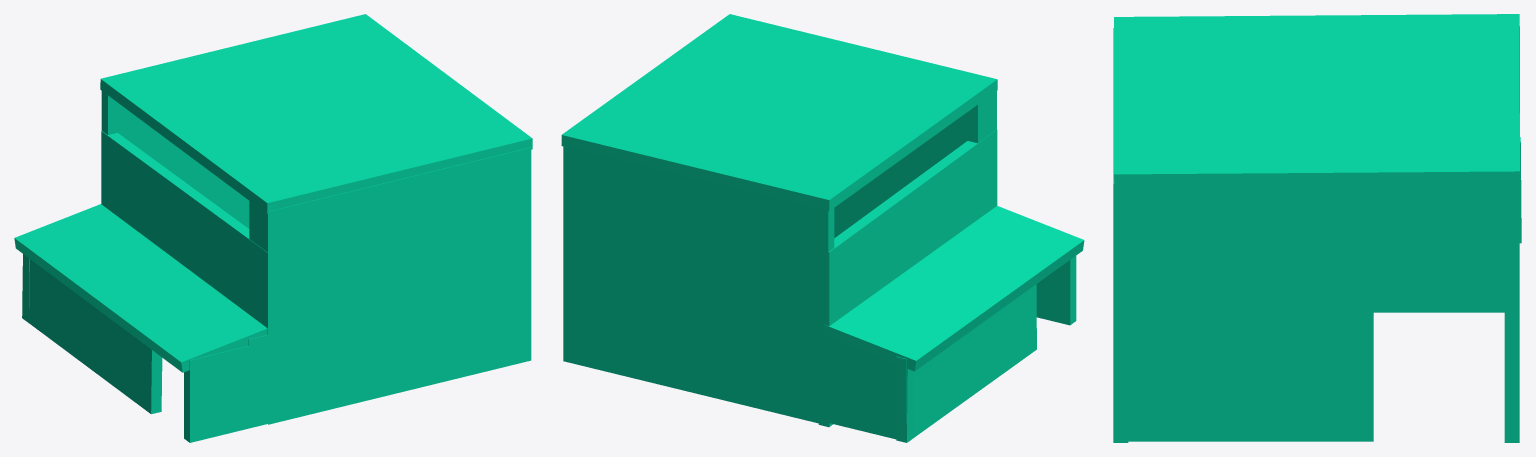
File: SM_PDA.fbx
3 renders of one model, left to right at view 1: azimuth 30°, elevation 25°; view 2: azimuth 150°, elevation 25°; view 3: azimuth 270°, elevation 25°, orthographic. The views are drawn at different scales.
Visible parts, largest first — view 1: SM_Mur_D_PDA, SM_toit_PDA, SM_toit_PDA1, SM_facade, SM_sass_PDA, SM_Mur_D_PDA1, SM_Mur_L_PDA, SM_haut_building; view 2: SM_Mur_L_PDA, SM_toit_PDA, SM_toit_PDA1, SM_facade, SM_sass_PDA, SM_Mur_D_PDA2, SM_Mur_D_PDA, SM_Mur_D_PDA1, SM_haut_building; view 3: SM_BAckPDA, SM_toit_PDA, SM_Mur_D_PDA, SM_Mur_L_PDA.
Boxes of the visible parts, x1=… form: SM_Mur_D_PDA: x1=268, y1=147, x2=531, y2=424; SM_toit_PDA: x1=100, y1=14, x2=532, y2=213; SM_toit_PDA1: x1=14, y1=204, x2=267, y2=372; SM_facade: x1=101, y1=131, x2=268, y2=334; SM_sass_PDA: x1=22, y1=254, x2=162, y2=414; SM_Mur_D_PDA1: x1=184, y1=335, x2=268, y2=442; SM_Mur_L_PDA: x1=101, y1=91, x2=249, y2=228; SM_haut_building: x1=249, y1=201, x2=278, y2=252; SM_Mur_L_PDA: x1=563, y1=146, x2=834, y2=425; SM_toit_PDA: x1=561, y1=14, x2=997, y2=211; SM_toit_PDA1: x1=823, y1=206, x2=1084, y2=371; SM_facade: x1=818, y1=129, x2=997, y2=427; SM_sass_PDA: x1=896, y1=284, x2=1036, y2=442; SM_Mur_D_PDA2: x1=829, y1=338, x2=913, y2=441; SM_Mur_D_PDA: x1=834, y1=112, x2=967, y2=237; SM_Mur_D_PDA1: x1=1036, y1=256, x2=1076, y2=325; SM_haut_building: x1=967, y1=91, x2=996, y2=143; SM_BAckPDA: x1=1128, y1=185, x2=1504, y2=441; SM_toit_PDA: x1=1114, y1=14, x2=1519, y2=187; SM_Mur_D_PDA: x1=1113, y1=28, x2=1128, y2=442; SM_Mur_L_PDA: x1=1504, y1=185, x2=1519, y2=442.
Size of the model in its own units: 1338 by 820 by 1107.
